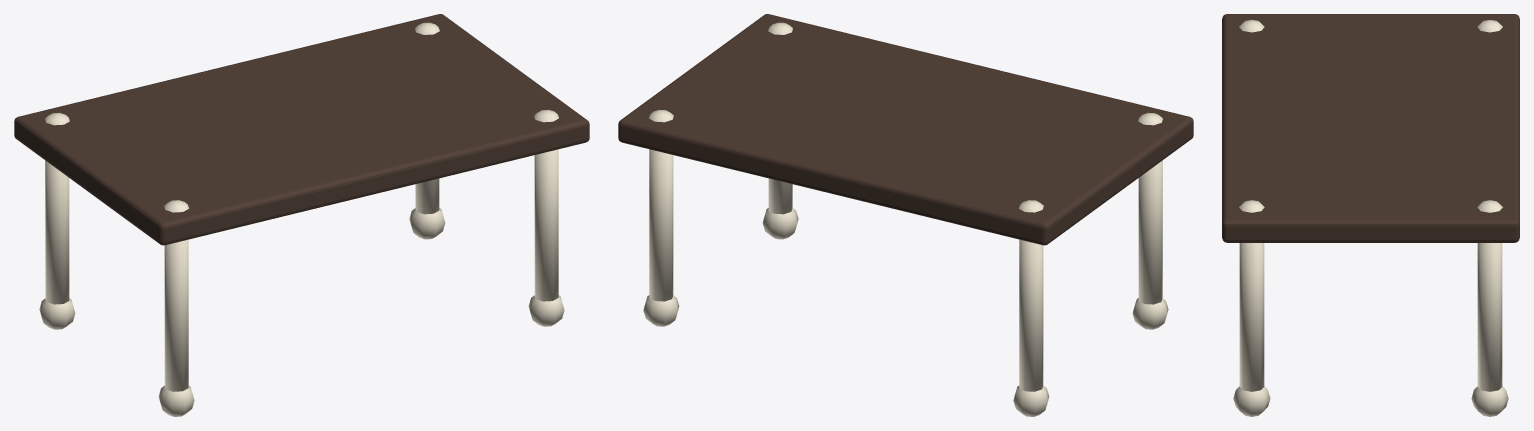
The model's file is low_table_bone_low.glb.
3 views of the same model, side by side, from view 1: azimuth 30°, elevation 25°; view 2: azimuth 150°, elevation 25°; view 3: azimuth 270°, elevation 25° (orthographic).
Visible parts, largest first — view 1: GD_low_table_bone_low__m0, GD_low_table_bone_low__m1; view 2: GD_low_table_bone_low__m0, GD_low_table_bone_low__m1; view 3: GD_low_table_bone_low__m0, GD_low_table_bone_low__m1.
Part boxes in pixels (bbox=[...]): GD_low_table_bone_low__m0: bbox=[14, 14, 589, 245]; GD_low_table_bone_low__m1: bbox=[39, 22, 564, 416]; GD_low_table_bone_low__m0: bbox=[618, 14, 1193, 245]; GD_low_table_bone_low__m1: bbox=[643, 22, 1168, 416]; GD_low_table_bone_low__m0: bbox=[1222, 14, 1519, 242]; GD_low_table_bone_low__m1: bbox=[1233, 19, 1508, 416].
Bounding box in the file's own units: 1 × 0.475 × 0.6.
